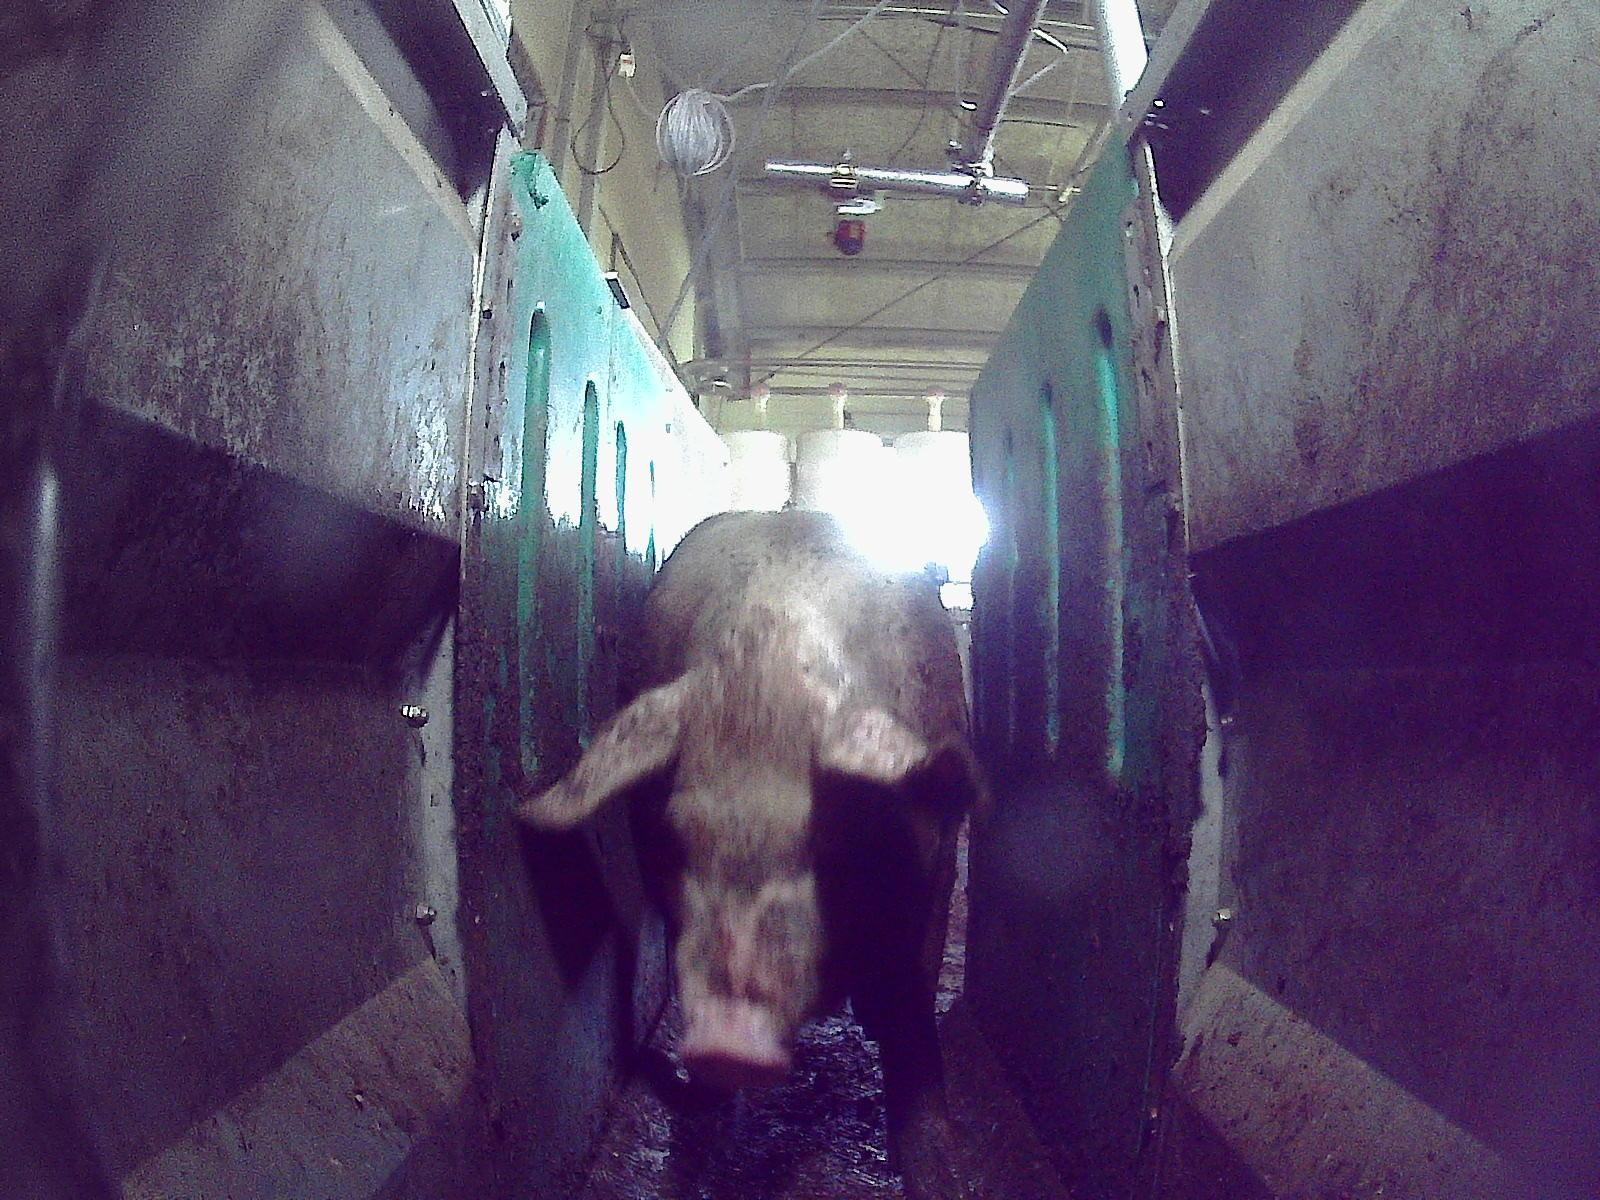Face: (653, 661, 883, 1088)
